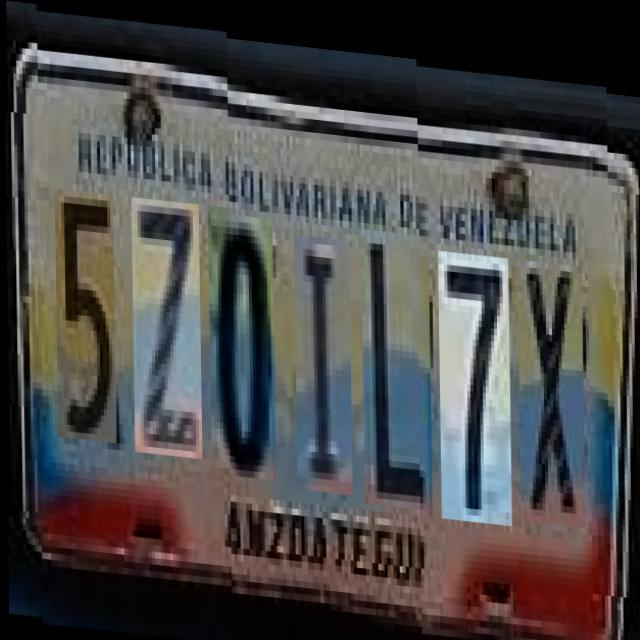5: (54, 188, 115, 440)
7: (437, 228, 511, 502)
I: (294, 222, 352, 481)
L: (360, 215, 431, 494)
O: (207, 201, 275, 468)
X: (516, 234, 584, 502)
Z: (131, 194, 201, 454)
